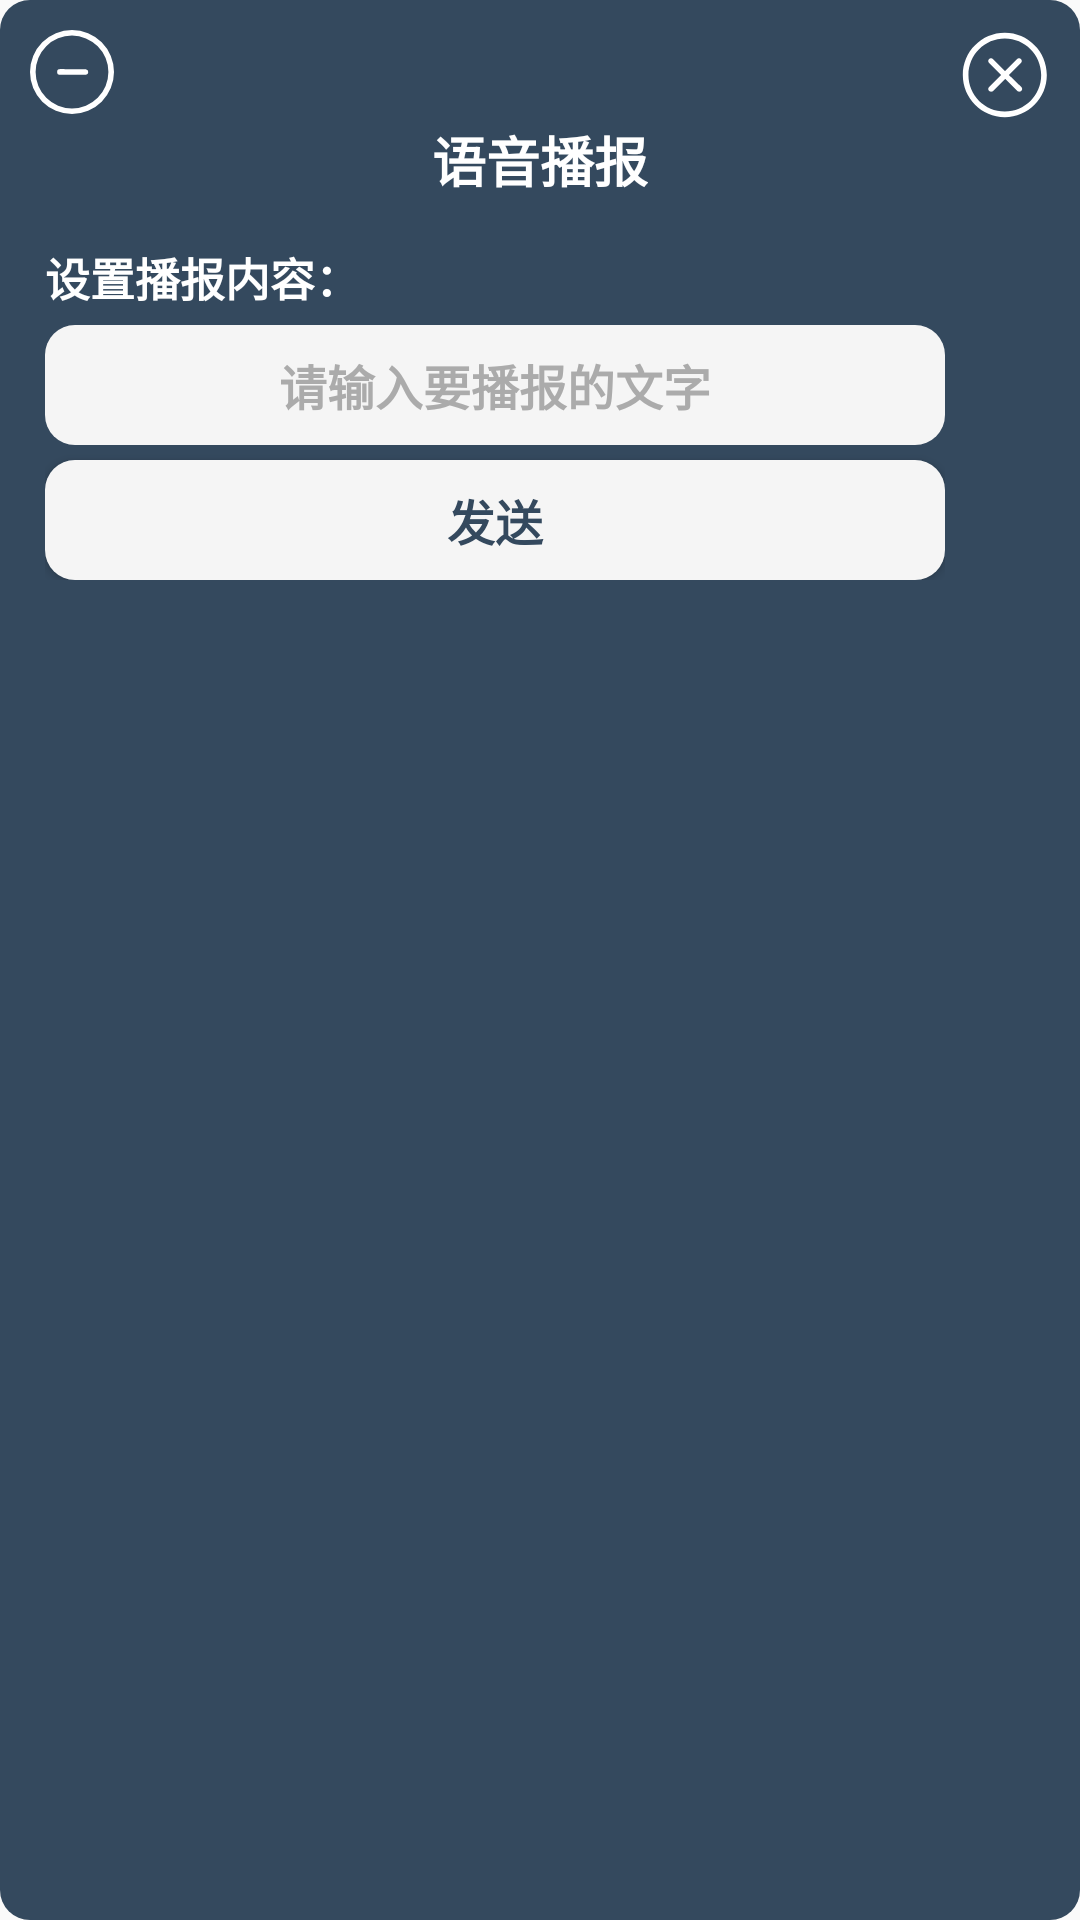

Named icons in this screenshot (1080*1920) and their centers, [x,y]:
minimize: [72,72]
关闭悬浮窗: [1004,75]
